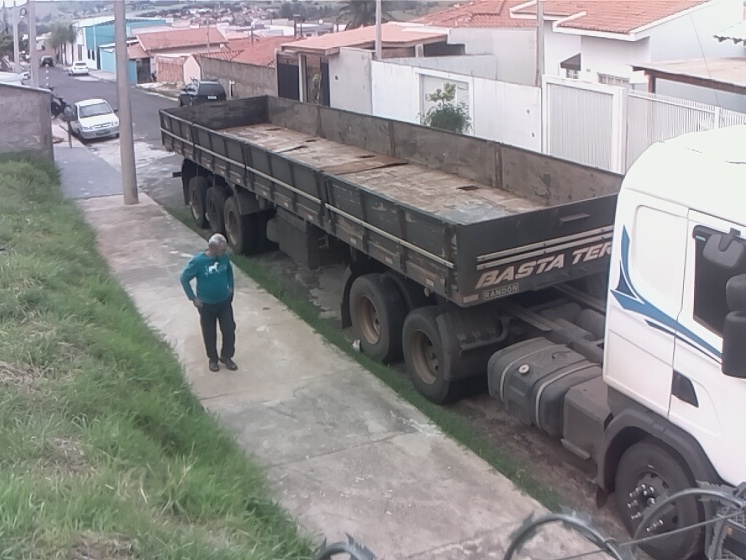person: (175, 228, 242, 377)
